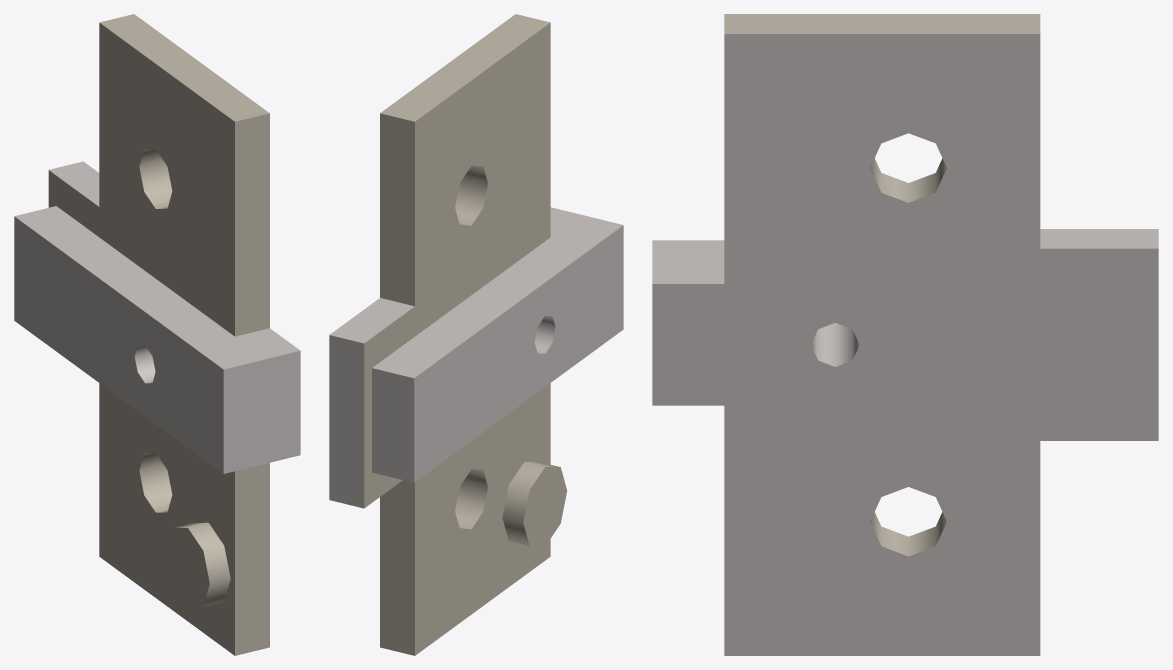
3 views of the same model, side by side, from view 1: azimuth 30°, elevation 25°; view 2: azimuth 150°, elevation 25°; view 3: azimuth 270°, elevation 25° (orthographic). The views are drawn at different scales.
Parts seen in each view (by area): view 1: bau0012060704; view 2: bau0012060704; view 3: bau0012060704.
Boxes of the visible parts, <box> form: bau0012060704: <box>14,14,300,655</box>; bau0012060704: <box>329,14,623,655</box>; bau0012060704: <box>652,14,1158,655</box>.
Size of the model in its own units: 8.5 by 56.3 by 41.51.
